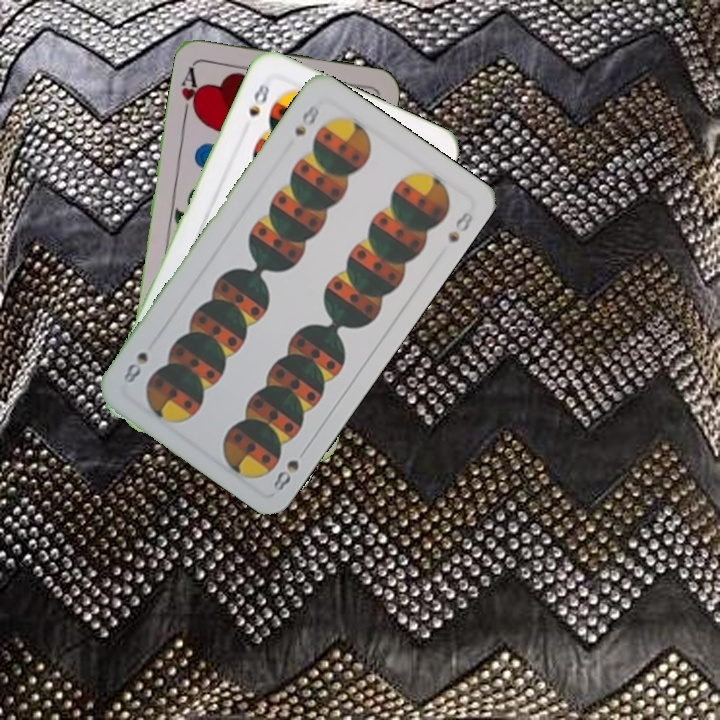HA: (177, 60, 204, 120)
S8: (269, 442, 311, 494), (244, 74, 272, 119), (290, 100, 322, 139)
